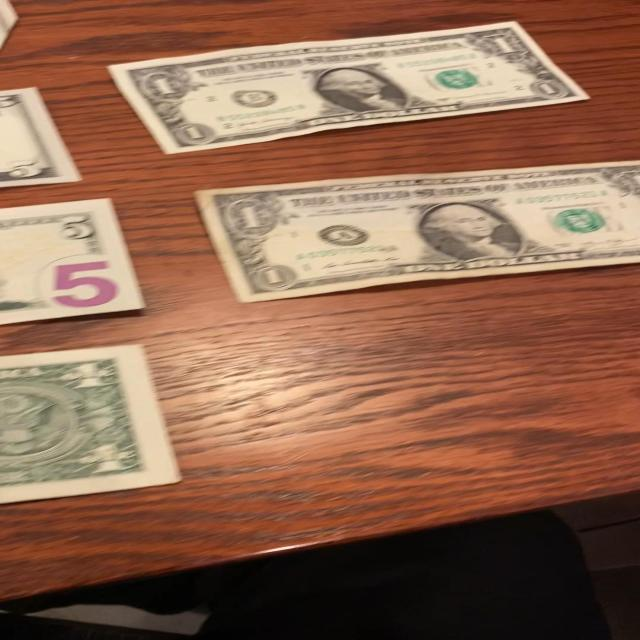1-Back: (1, 344, 182, 511)
1-Front: (188, 157, 640, 307), (104, 18, 594, 153)
5-Back: (0, 197, 155, 328)
